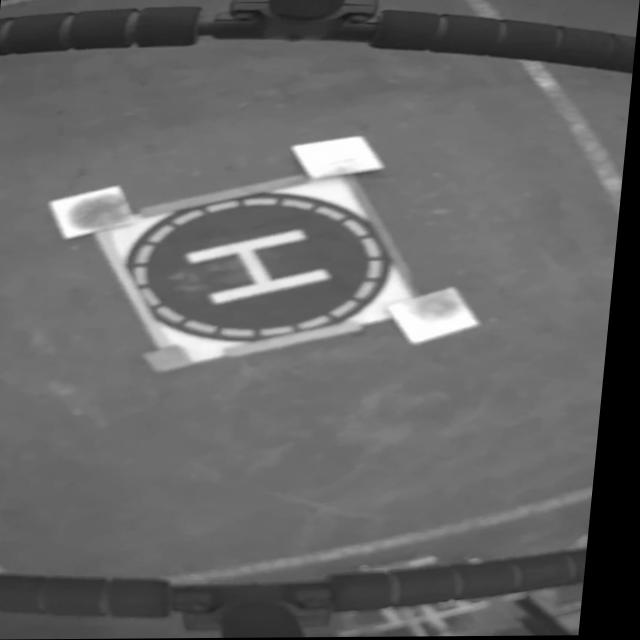Helipad: (190, 230, 332, 306)
